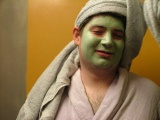male: (74, 14, 123, 76)
